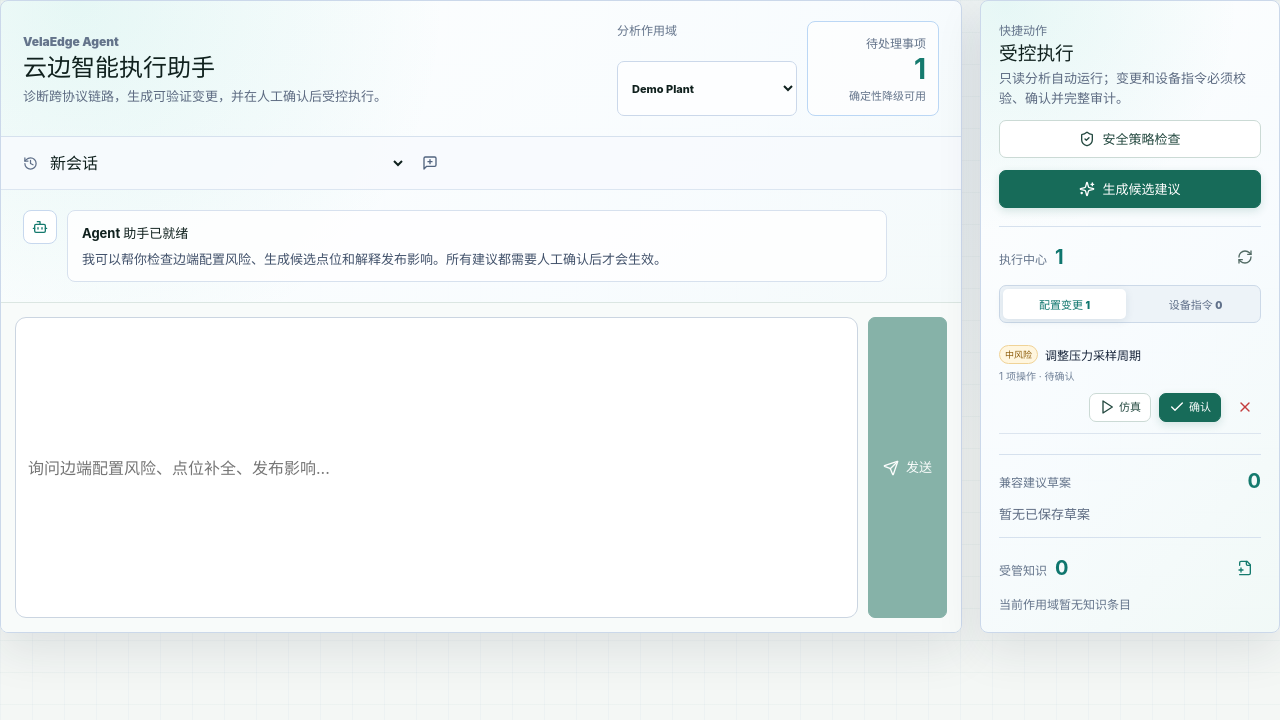
Test: AgentAssistantPage › simulates, confirms and applies a governed ChangeSet from the execution center
Expected: the text "调整压力采样周期" is shown, 1045,348 -> 1141,364
Click the button "中风险 调整压力采样周期 1 项操作 · 待确认".
click(1130, 364)  # box 999,346 -> 1261,384
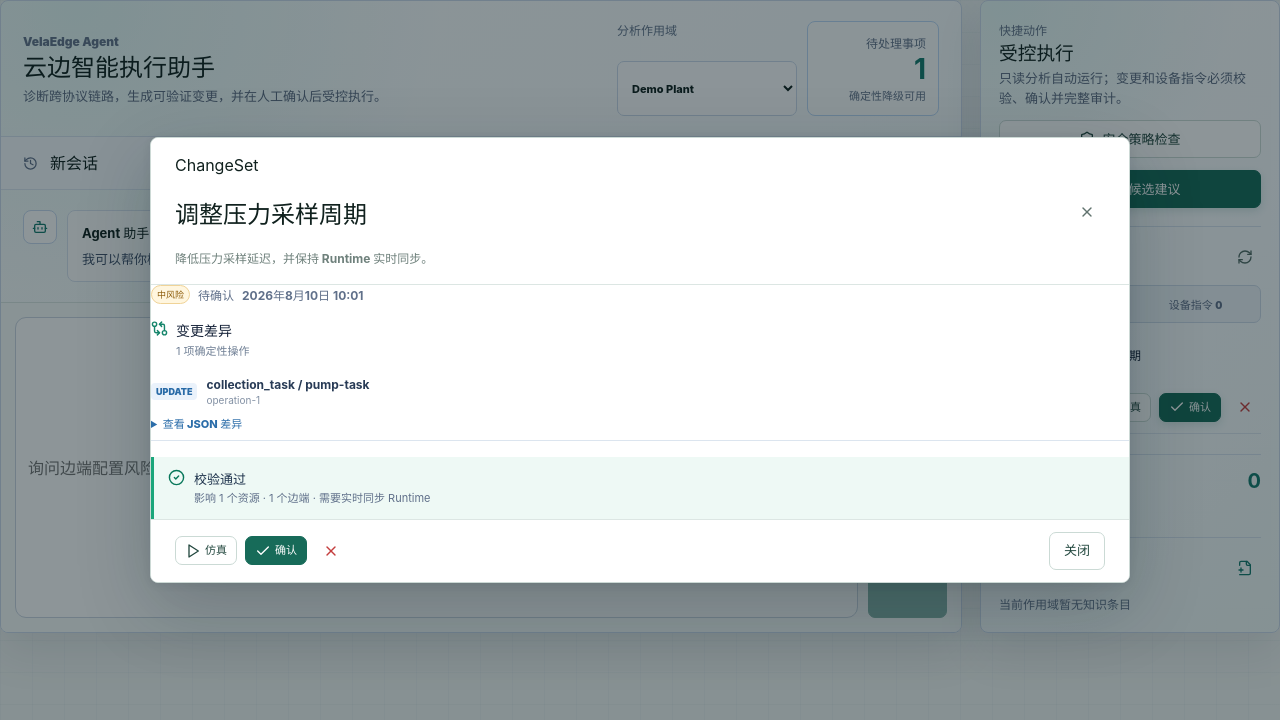
Expected: the text "变更差异" is shown, 176,322 -> 232,339
Expected: the text "需要实时同步 Runtime" is shown, 310,491 -> 430,505
Click the button "仿真".
click(206, 551)  # box 175,536 -> 237,565
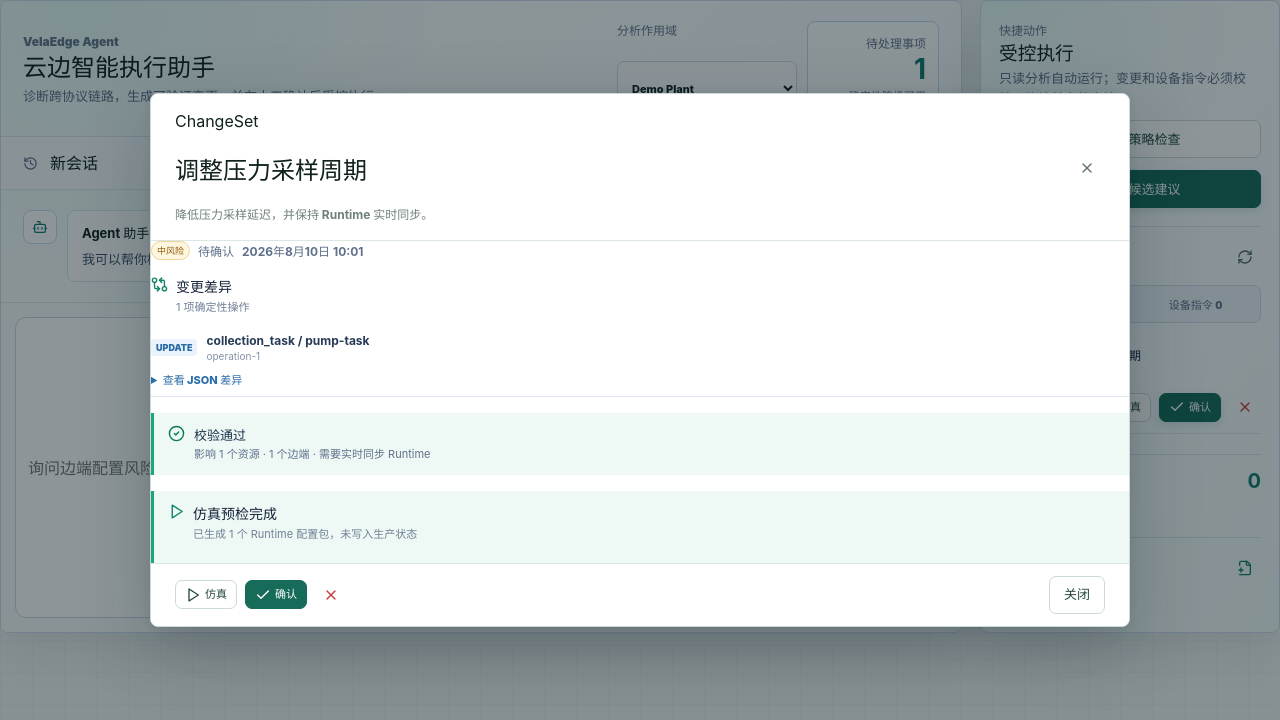
Expected: the text "仿真预检完成" is shown, 193,505 -> 277,522
Click the button "确认".
click(276, 595)  # box 245,580 -> 307,609
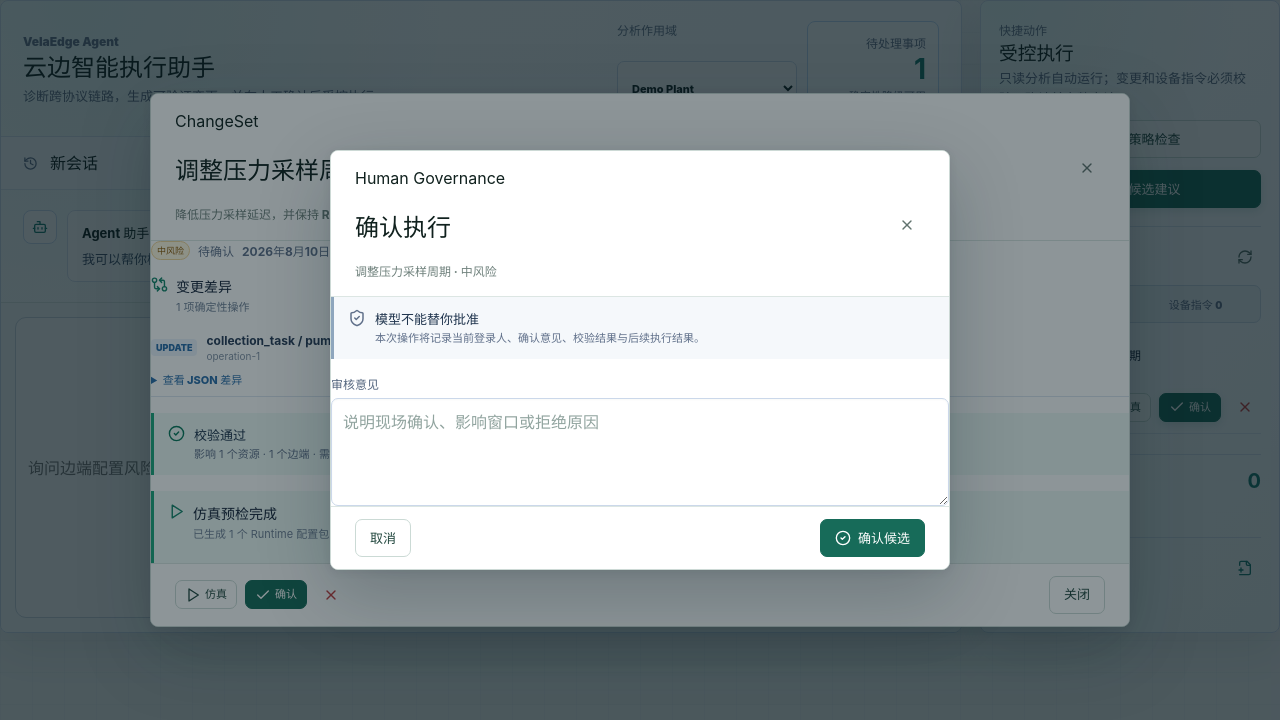
Expected: the dialog "确认执行" is shown, 330,150 -> 950,570
Type "维护窗口和影响范围已确认" into the text box named "治理审核意见".
click(640, 452); type("维护窗口和影响范围已确认")  # box 331,398 -> 949,506
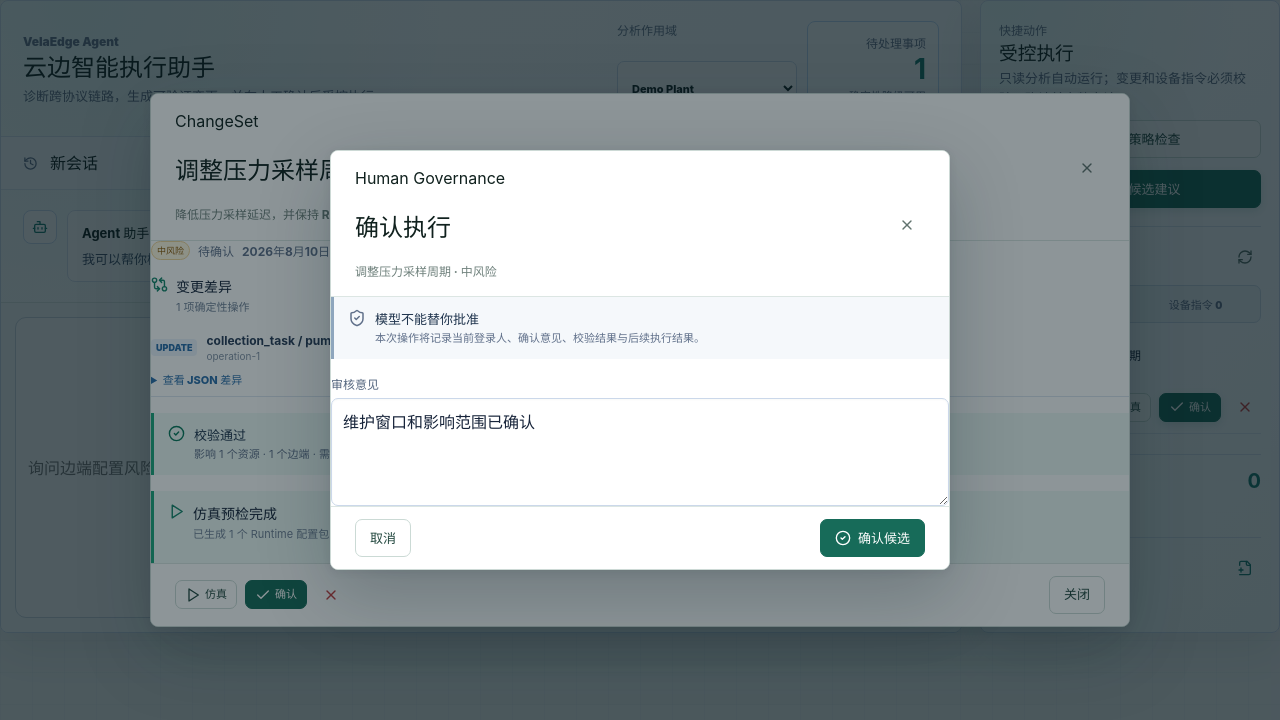
Click the button "确认候选".
click(872, 538)  # box 820,519 -> 925,557
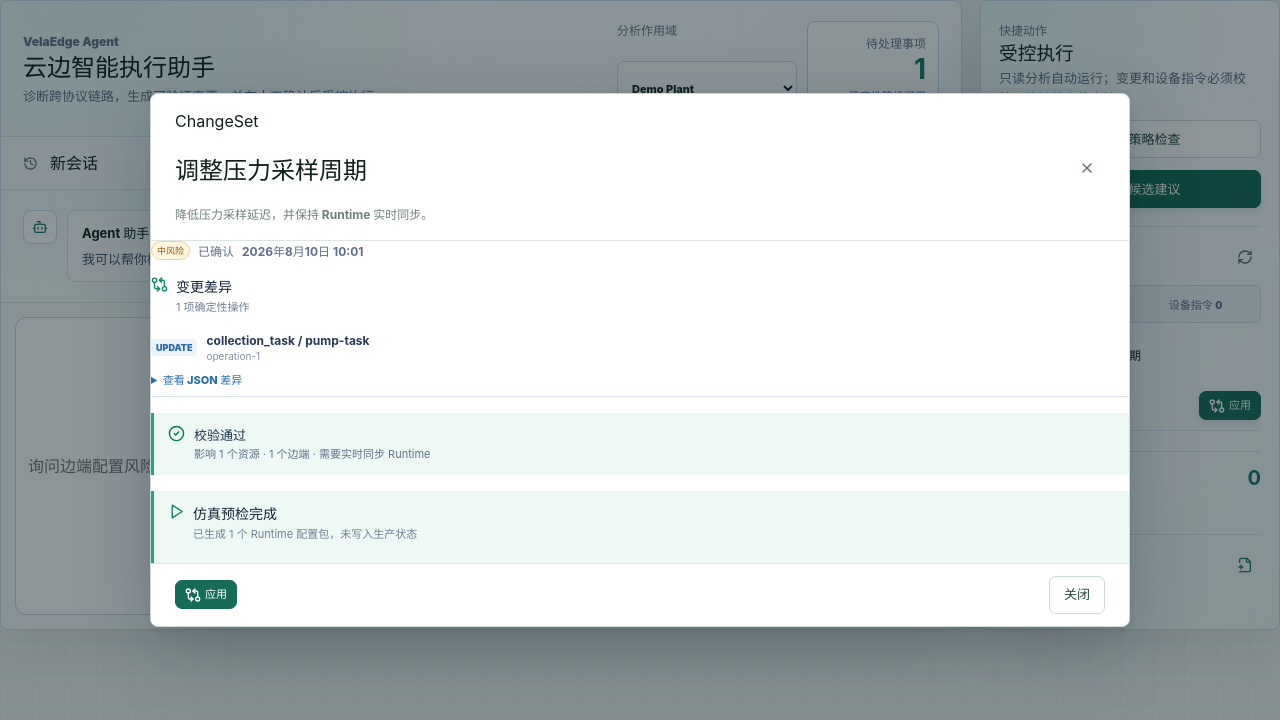
Click the button "应用".
click(206, 595)  # box 175,580 -> 237,609
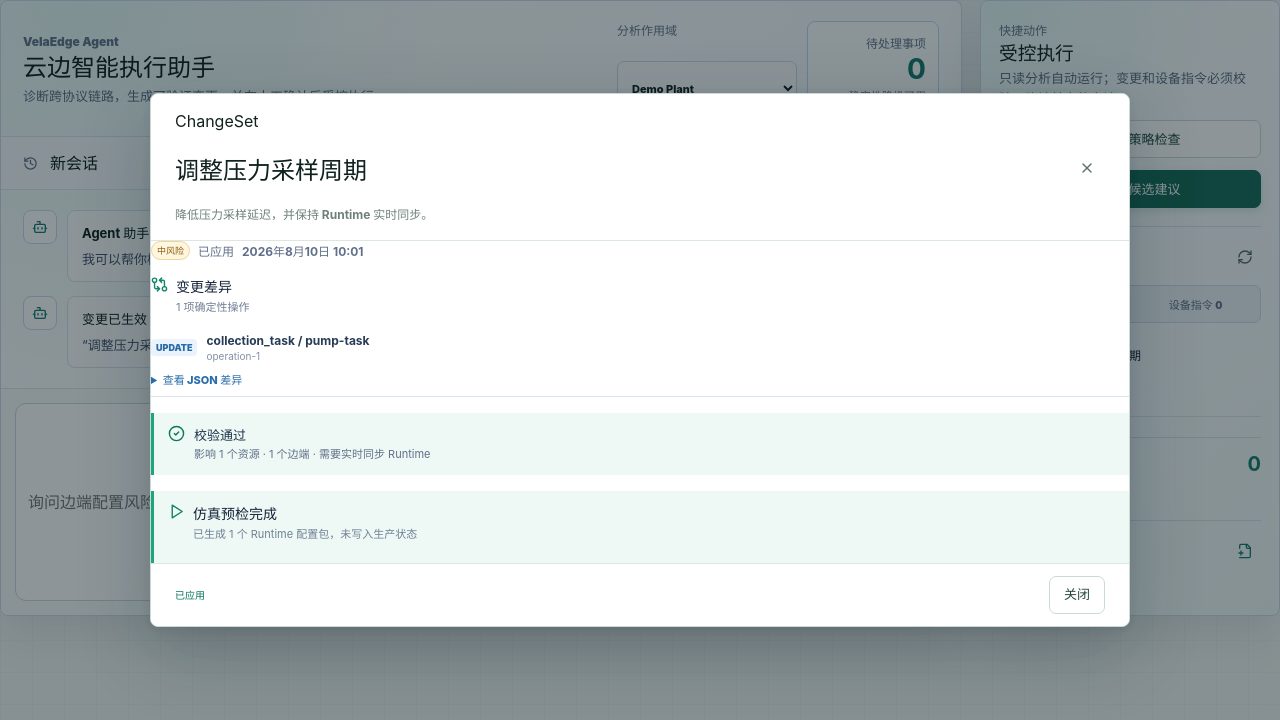
Expected: the text "变更已生效" is shown, 82,311 -> 147,327
